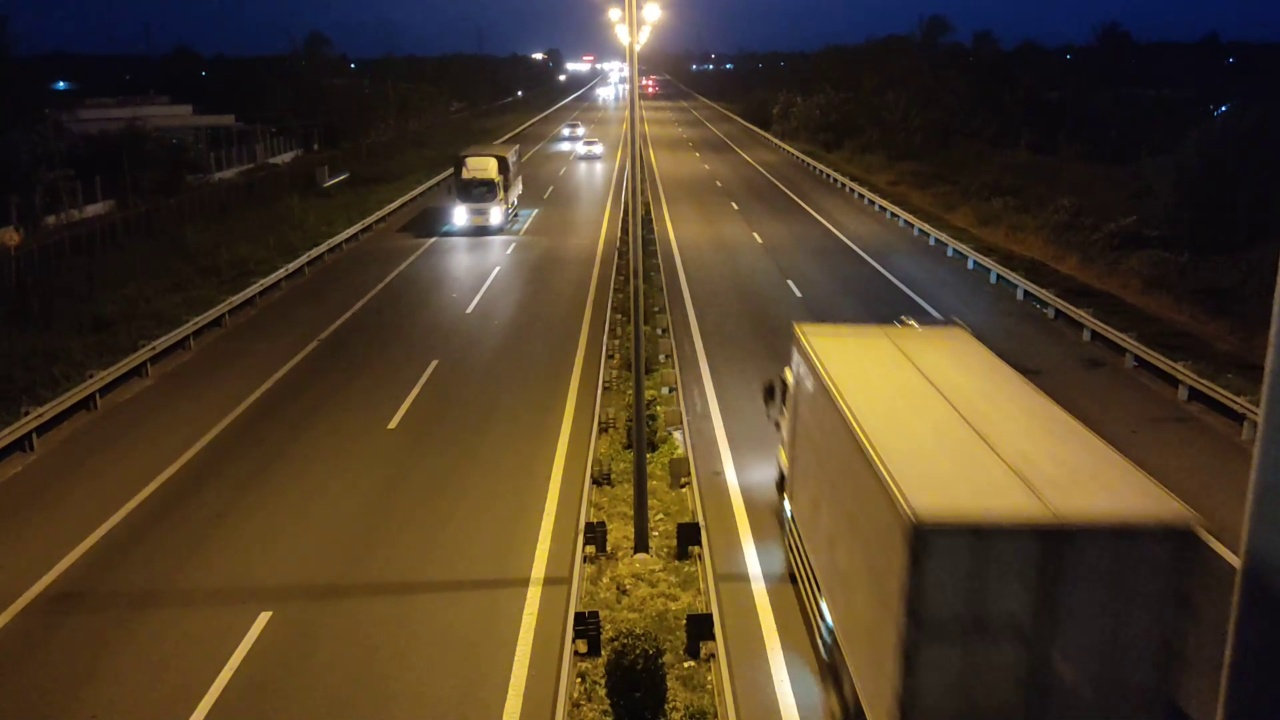car: (573, 137, 605, 160)
truck: (446, 132, 526, 239)
